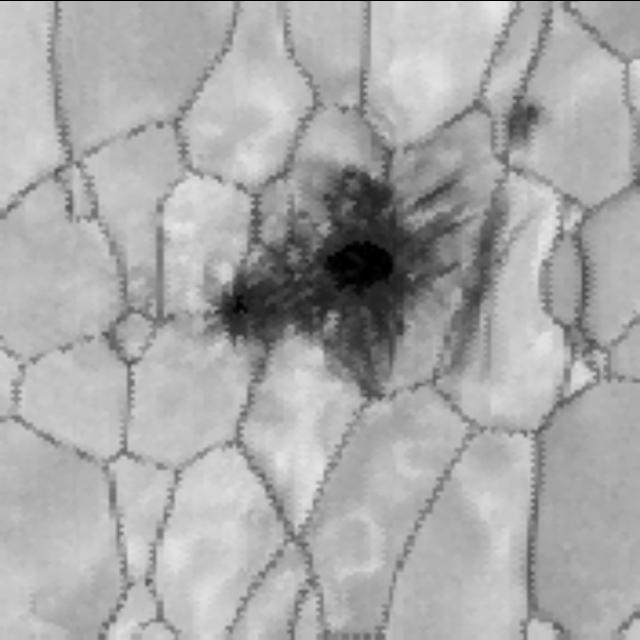good_void: (172, 93, 494, 439), (410, 178, 556, 412), (494, 83, 554, 163), (137, 567, 163, 597), (160, 301, 182, 333)
